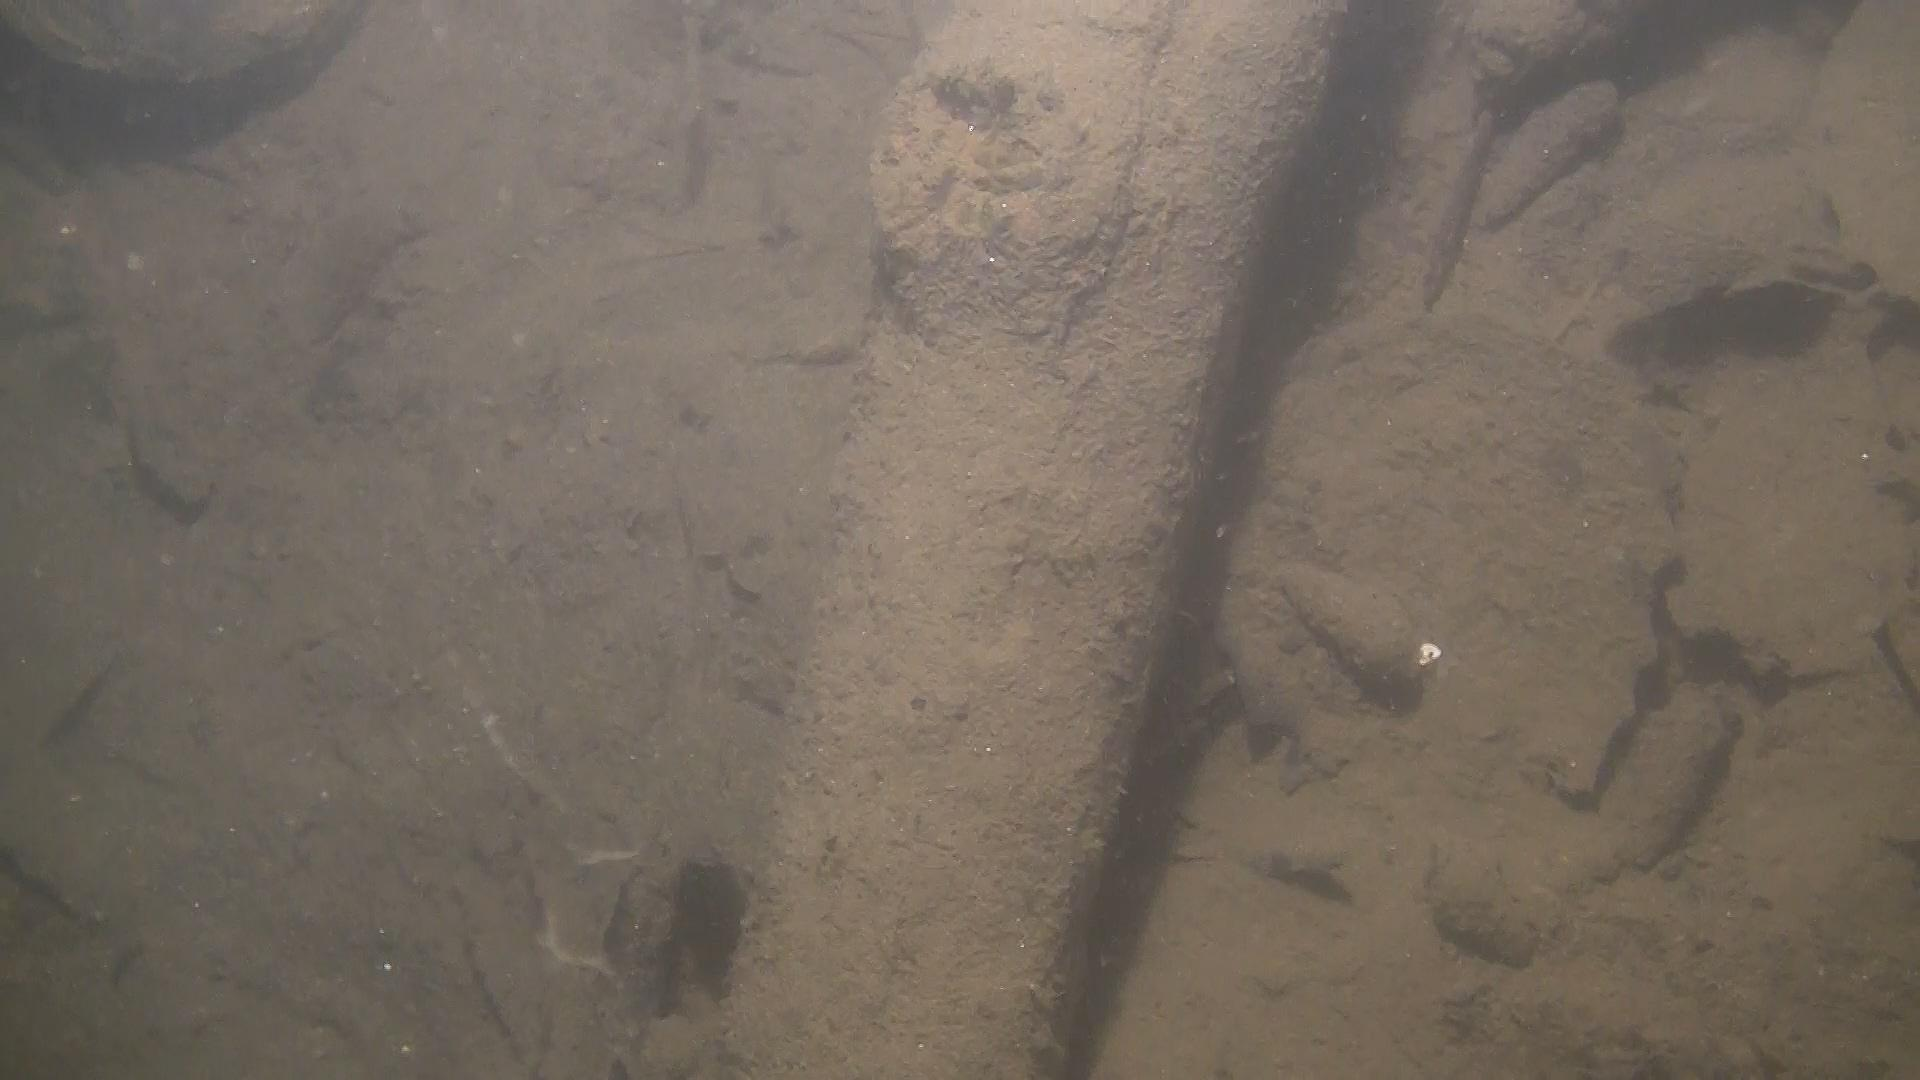wood: (715, 0, 1352, 1080)
